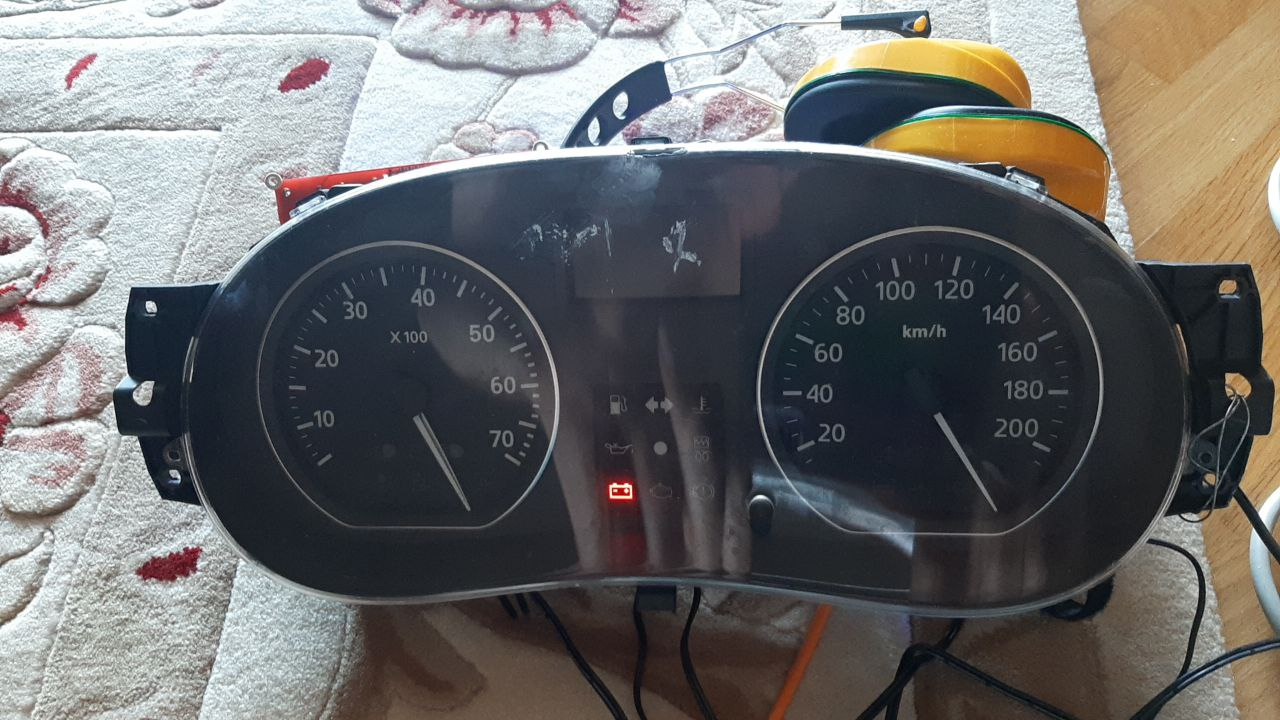accumulator: (602, 481, 636, 501)
